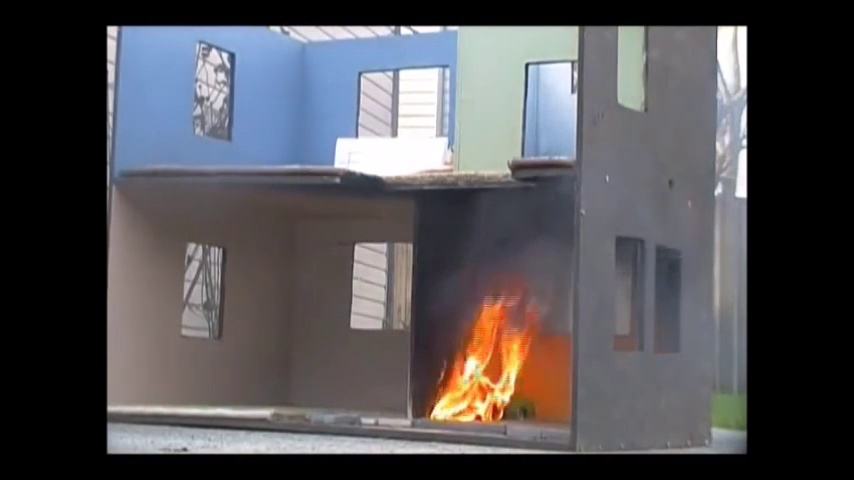fire: (433, 308, 521, 422)
